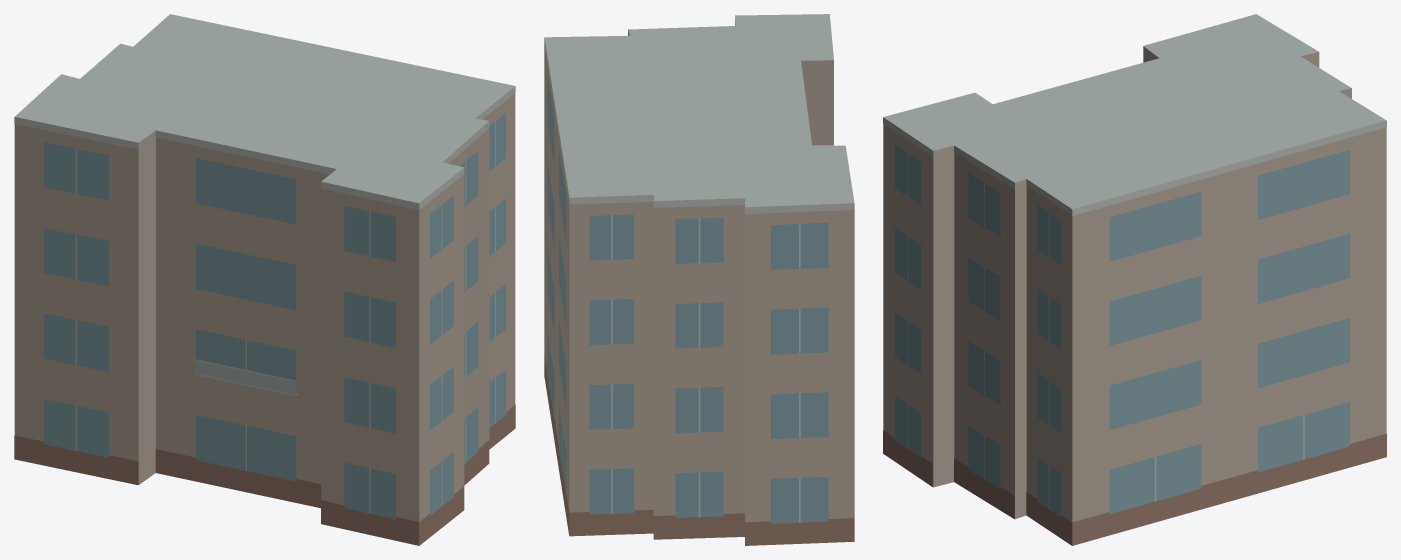
Rendered from survey-upis-32582623.glb.
3 renders of one model, left to right at view 1: azimuth 30°, elevation 25°; view 2: azimuth 150°, elevation 25°; view 3: azimuth 270°, elevation 25°, orthographic.
Parts seen in each view (by area): view 1: survey-upis-32582623.tmp; view 2: survey-upis-32582623.tmp; view 3: survey-upis-32582623.tmp.
Boxes of the visible parts, box(x1,y1,x2,y2) form: survey-upis-32582623.tmp: box(14, 14, 515, 545); survey-upis-32582623.tmp: box(544, 14, 854, 545); survey-upis-32582623.tmp: box(883, 14, 1386, 545).
Bounding box in the file's own units: 15.19 × 12.2 × 16.55.
